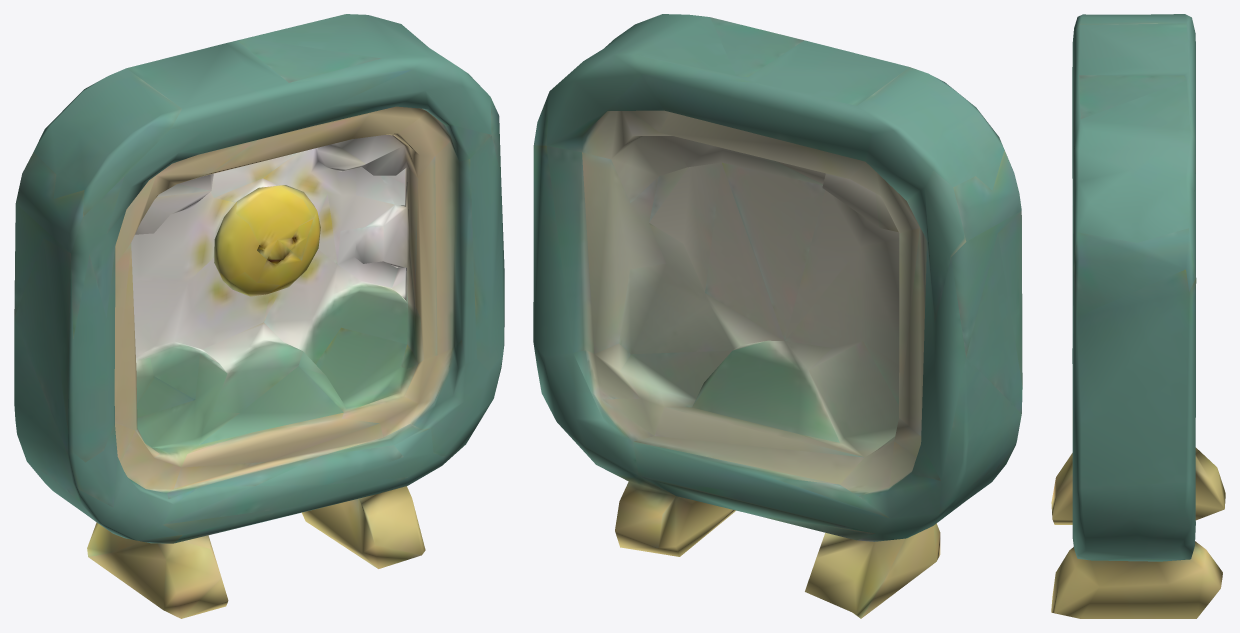
Rendered from living_picture_frame.glb.
The picture shows the model from 3 angles, left to right: view 1: azimuth 30°, elevation 25°; view 2: azimuth 150°, elevation 25°; view 3: azimuth 270°, elevation 25°; orthographic projection. The views are drawn at different scales.
Parts seen in each view (by area): view 1: tripo_node_3f2481aa-4b9e-4934-9a3d-8552b2b93c32; view 2: tripo_node_3f2481aa-4b9e-4934-9a3d-8552b2b93c32; view 3: tripo_node_3f2481aa-4b9e-4934-9a3d-8552b2b93c32.
Boxes of the visible parts, x1,y1,x2,y2 form: tripo_node_3f2481aa-4b9e-4934-9a3d-8552b2b93c32: (14,14,504,618); tripo_node_3f2481aa-4b9e-4934-9a3d-8552b2b93c32: (533,14,1022,618); tripo_node_3f2481aa-4b9e-4934-9a3d-8552b2b93c32: (1051,14,1225,618).
Size of the model in its own units: 0.4596 by 0.5 by 0.1626.
1 material, 1 textured.
